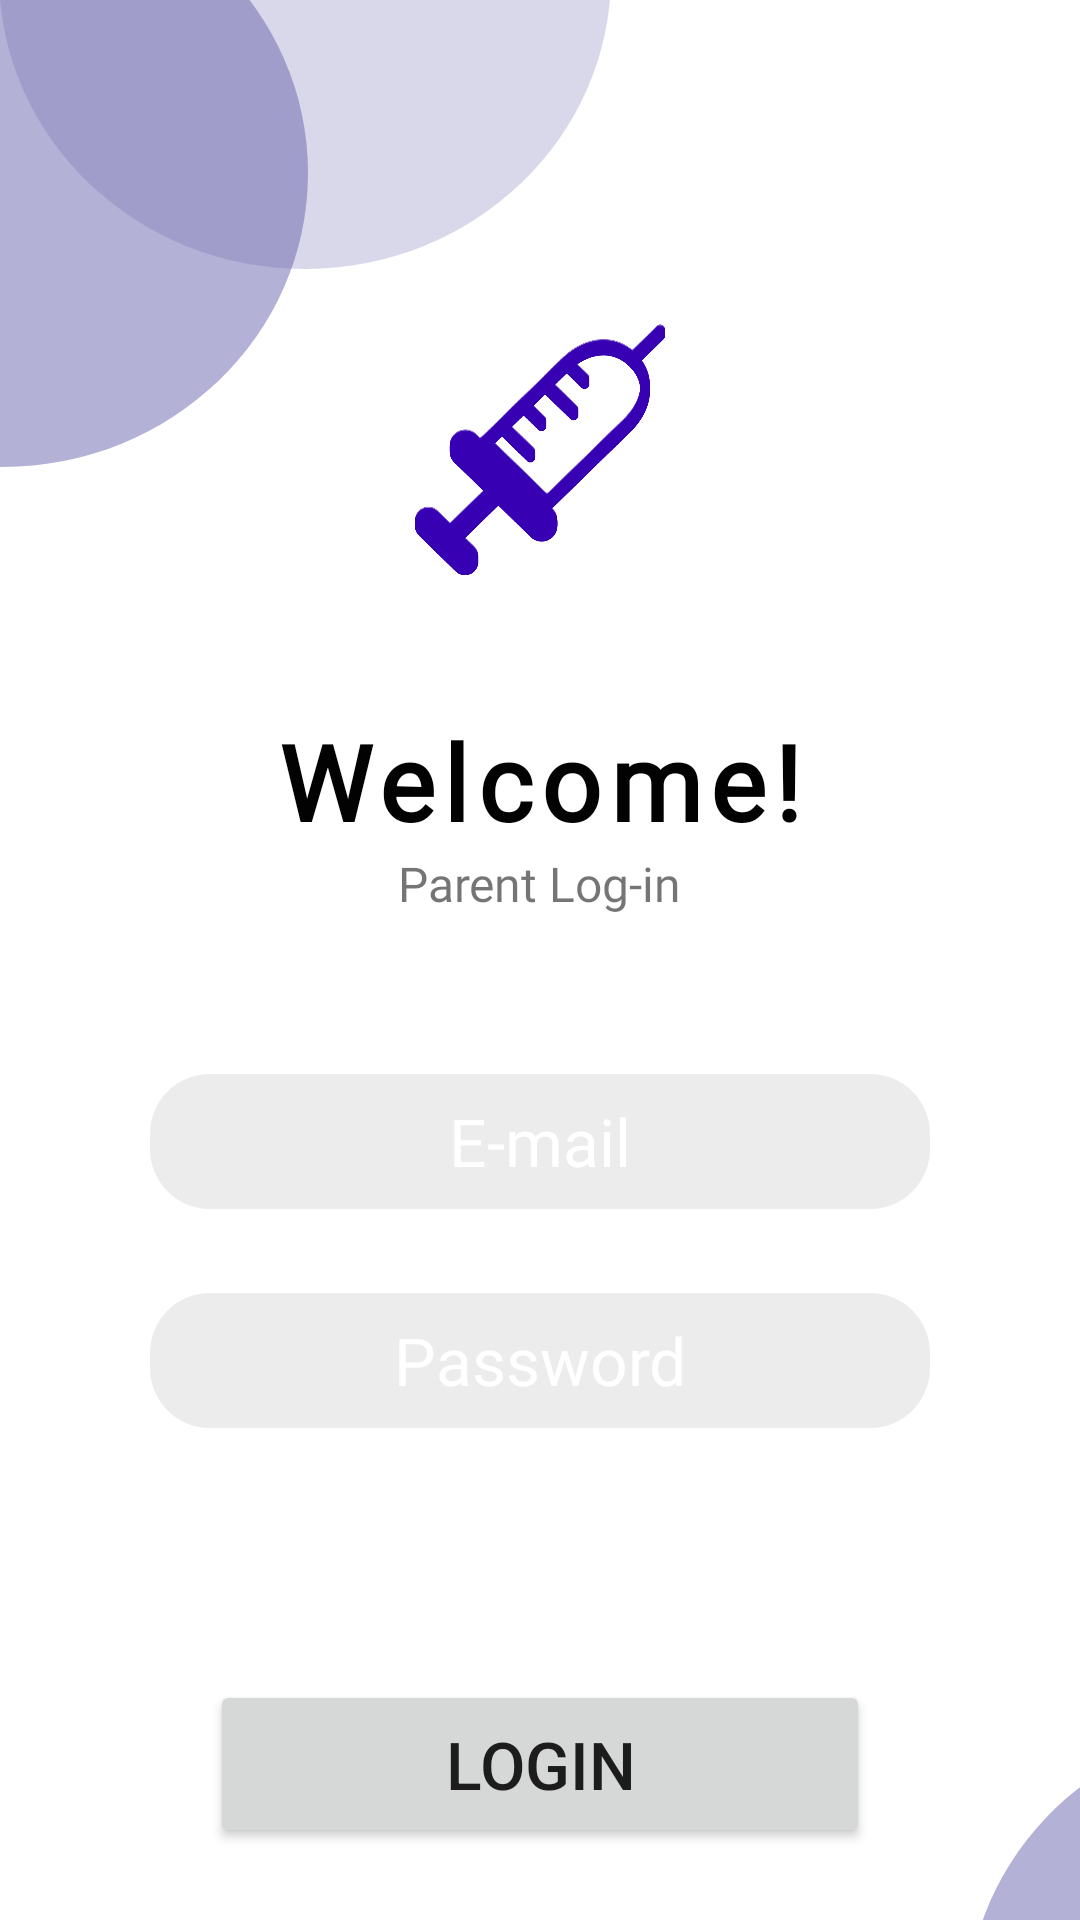

Where to tap for icons on this 1080x1920 app screen, as (x=x, y=y):
syringe: (x=540, y=449)
